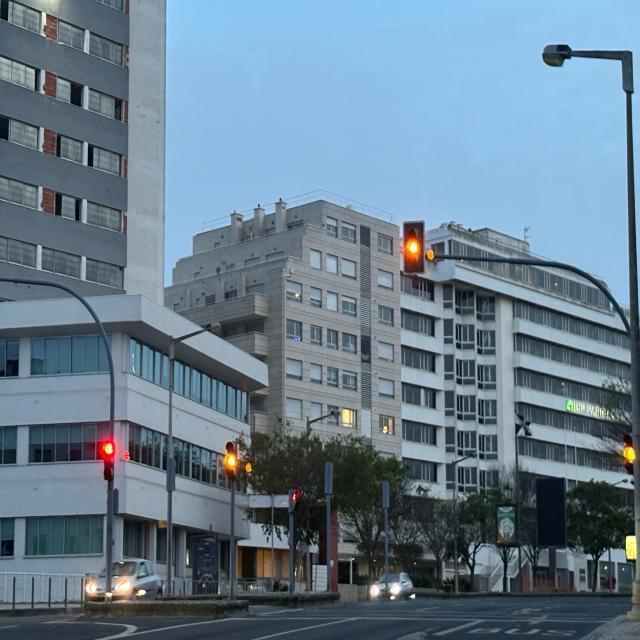red_light: (99, 435, 113, 480)
yellow_light: (401, 219, 423, 278), (620, 427, 634, 480), (221, 437, 234, 485)
